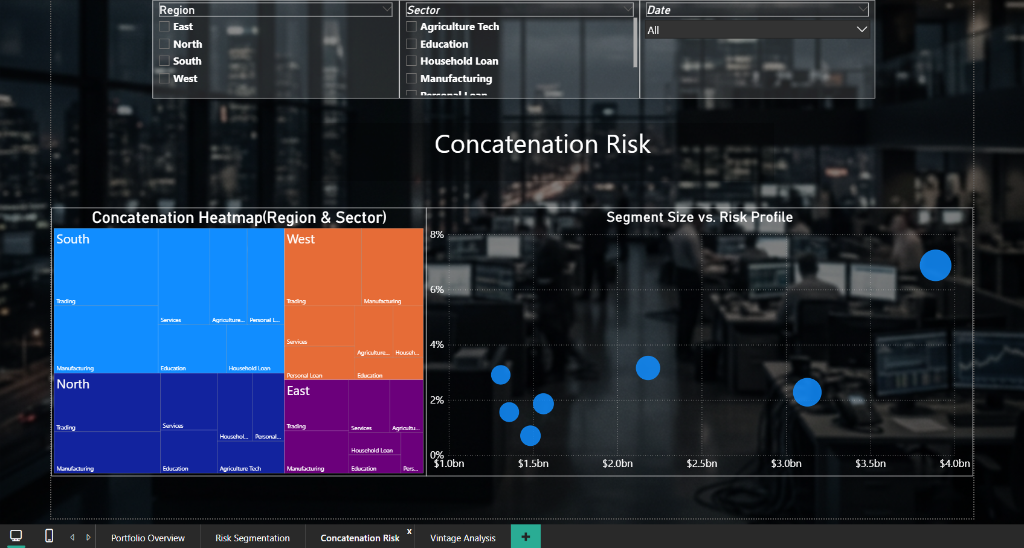

The dashboard page shown, as its layout file describes it:
{"tool":"powerbi","page":{"name":"Concatenation Risk","canvas":[1920,1080],"ordinal":2},"visuals":[{"type":"treemap","title":"Concatenation Heatmap(Region & Sector)","fields":{"Group":["MSME_Loan_Portfolio.Region"],"Values":["MSME_Loan_Portfolio.Total_Outstanding"],"Details":["MSME_Loan_Portfolio.Sector"]},"box":[0,197.4,780.9,559.6],"z":0},{"type":"scatterChart","title":"Segment Size vs. Risk Profile","fields":{"X":["MSME_Loan_Portfolio.Total_Outstanding"],"Category":["MSME_Loan_Portfolio.Sector","MSME_Loan_Portfolio.Region"],"Y":["MSME_Loan_Portfolio.NPA_%"],"Size":["MSME_Loan_Portfolio.Total_Outstanding"]},"box":[779.9,196.3,1140.1,560.2],"z":1}]}

Visuals, with their boxes on the page's 1920x1080 design canvas (x1, y1, x2, y2). These are canvas units, not pixel positions in the 1024x548 screenshot, which may show the page scaled, cropped or inside an application window:
"Concatenation Heatmap(Region & Sector)" treemap: pyautogui.locateOnScreen(0, 197, 781, 757)
"Segment Size vs. Risk Profile" scatterChart: pyautogui.locateOnScreen(780, 196, 1920, 756)
